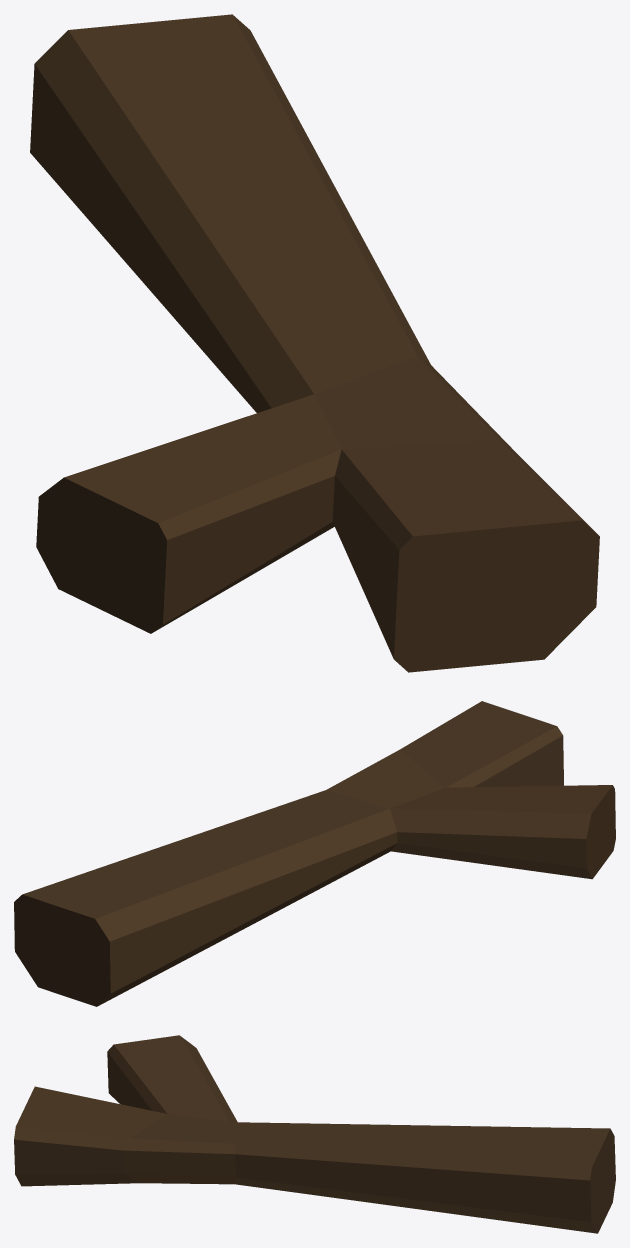
Rendered from Stick 2.fbx.
3 views of the same model, one above another, from view 1: azimuth 30°, elevation 25°; view 2: azimuth 150°, elevation 25°; view 3: azimuth 270°, elevation 25° (orthographic). The views are drawn at different scales.
Parts seen in each view (by area): view 1: Stick 2; view 2: Stick 2; view 3: Stick 2.
Boxes of the visible parts, x1,y1,x2,y2 form: Stick 2: [30, 14, 599, 672]; Stick 2: [14, 701, 615, 1006]; Stick 2: [14, 1035, 615, 1233].
Size of the model in its own units: 16.37 by 4.41 by 28.12.
